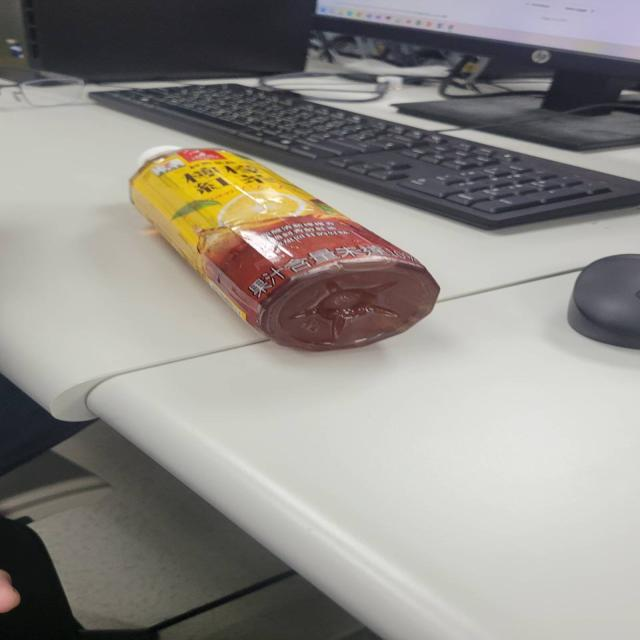PET bottle: (110, 124, 456, 357)
